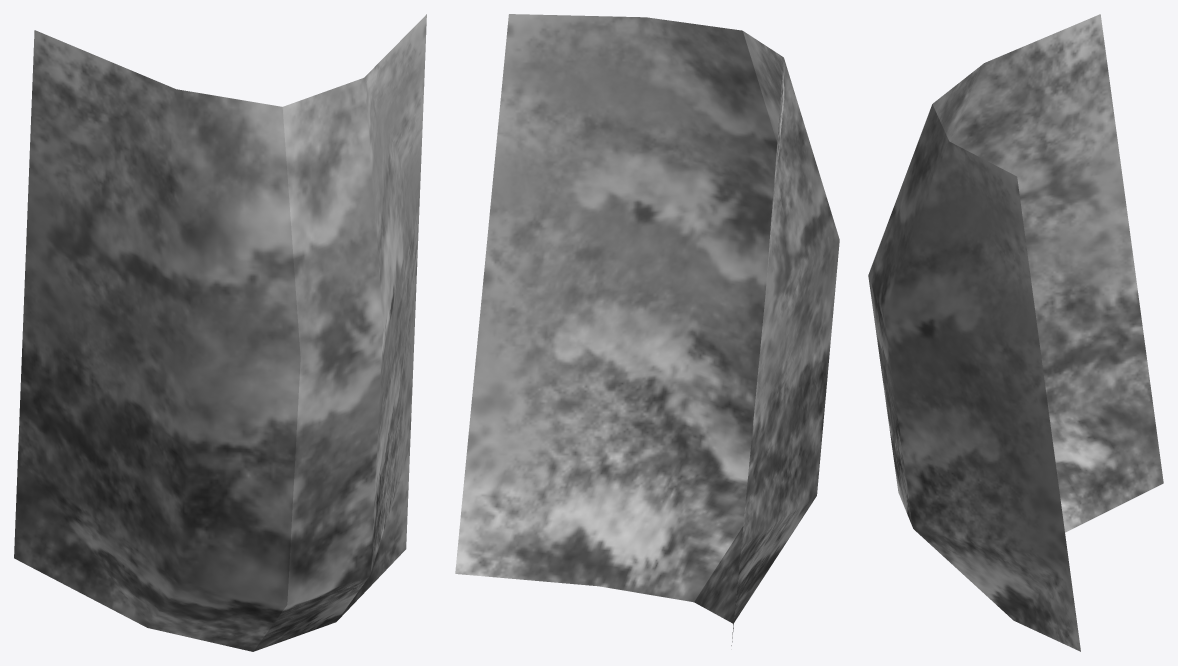
The model's file is Storm_card_1.fbx.
The picture shows the model from 3 angles, left to right: view 1: azimuth 30°, elevation 25°; view 2: azimuth 150°, elevation 25°; view 3: azimuth 270°, elevation 25°; orthographic projection. The views are drawn at different scales.
Parts seen in each view (by area): view 1: Storm_card_1; view 2: Storm_card_1; view 3: Storm_card_1.
Part boxes in pixels (x1,y1,x2,y2): Storm_card_1: [14, 14, 426, 651]; Storm_card_1: [455, 14, 839, 645]; Storm_card_1: [868, 14, 1163, 651].
Bounding box in the file's own units: 29.02 × 47.43 × 25.05.
